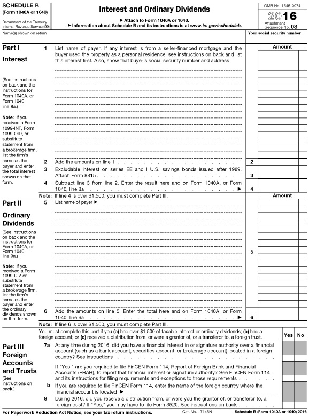textbox: (1, 28, 247, 45), (243, 28, 309, 45), (256, 49, 300, 72), (255, 163, 299, 180), (256, 177, 300, 194), (256, 305, 300, 322), (292, 380, 309, 410), (255, 156, 300, 167), (256, 210, 301, 221), (256, 88, 300, 99), (256, 95, 300, 106), (256, 102, 300, 113), (256, 122, 300, 133), (256, 203, 300, 214), (280, 380, 296, 410), (256, 69, 299, 80), (257, 75, 300, 86), (257, 109, 300, 120), (256, 115, 299, 126), (256, 129, 299, 140), (256, 197, 301, 207), (256, 217, 301, 227), (256, 231, 301, 241), (255, 223, 300, 233), (255, 238, 300, 248), (256, 244, 301, 254), (256, 251, 301, 261), (256, 258, 301, 268), (255, 264, 300, 274), (256, 271, 301, 281), (256, 278, 301, 288), (255, 285, 300, 295), (257, 292, 302, 302), (256, 299, 301, 309), (257, 136, 301, 146), (256, 82, 299, 92), (257, 143, 300, 153), (256, 150, 300, 159), (293, 340, 309, 363), (280, 340, 296, 363), (280, 360, 296, 383), (293, 360, 309, 383), (296, 48, 309, 72), (295, 305, 309, 321), (297, 177, 309, 194), (297, 163, 309, 179), (296, 156, 309, 167), (296, 68, 309, 79), (296, 210, 309, 221), (296, 150, 309, 160), (296, 143, 309, 153), (296, 136, 309, 146), (296, 130, 309, 140), (296, 116, 309, 126), (296, 109, 309, 119), (296, 103, 309, 113), (296, 96, 309, 106), (296, 89, 309, 99), (296, 82, 309, 92), (296, 75, 309, 85), (296, 197, 309, 207), (296, 204, 309, 214), (296, 217, 309, 227), (296, 224, 309, 234), (296, 231, 309, 241), (296, 238, 309, 248), (296, 244, 309, 254), (296, 251, 309, 261), (296, 258, 309, 268), (296, 265, 309, 275), (296, 272, 309, 282), (296, 278, 309, 288), (296, 285, 309, 295), (296, 292, 309, 302), (296, 299, 309, 309)
textline: (53, 65, 243, 72), (53, 72, 243, 79), (53, 85, 243, 92), (53, 92, 243, 99), (53, 99, 243, 106), (53, 112, 243, 119), (53, 119, 243, 126), (53, 126, 243, 133), (53, 132, 243, 139), (53, 139, 243, 146), (53, 146, 243, 153), (54, 152, 244, 159), (53, 207, 243, 214), (54, 213, 244, 220), (53, 227, 243, 234), (53, 234, 243, 241), (54, 241, 244, 248), (53, 247, 243, 254), (54, 254, 244, 261), (54, 274, 244, 281), (54, 281, 244, 288), (53, 288, 243, 295), (53, 295, 243, 302), (53, 301, 243, 308), (53, 105, 242, 112), (53, 262, 242, 269), (53, 79, 243, 85), (54, 221, 244, 227), (53, 268, 243, 274), (123, 389, 281, 396)
